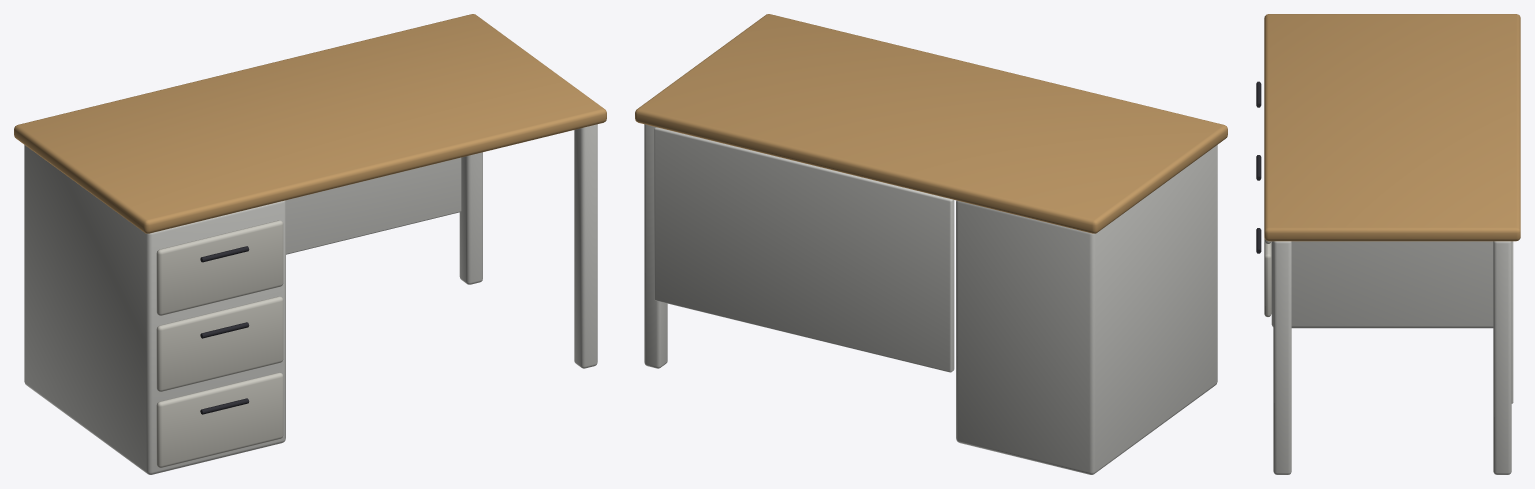
The model's file is desk.glb.
3 views of the same model, side by side, from view 1: azimuth 30°, elevation 25°; view 2: azimuth 150°, elevation 25°; view 3: azimuth 270°, elevation 25° (orthographic). The views are drawn at different scales.
Visible parts, largest first — view 1: desk; view 2: desk; view 3: desk.
Part boxes in pixels (x1=…): desk: x1=14, y1=14, x2=606, y2=474; desk: x1=635, y1=14, x2=1227, y2=474; desk: x1=1256, y1=14, x2=1520, y2=474.
Bounding box in the file's own units: 1.4 × 0.75 × 0.722.
